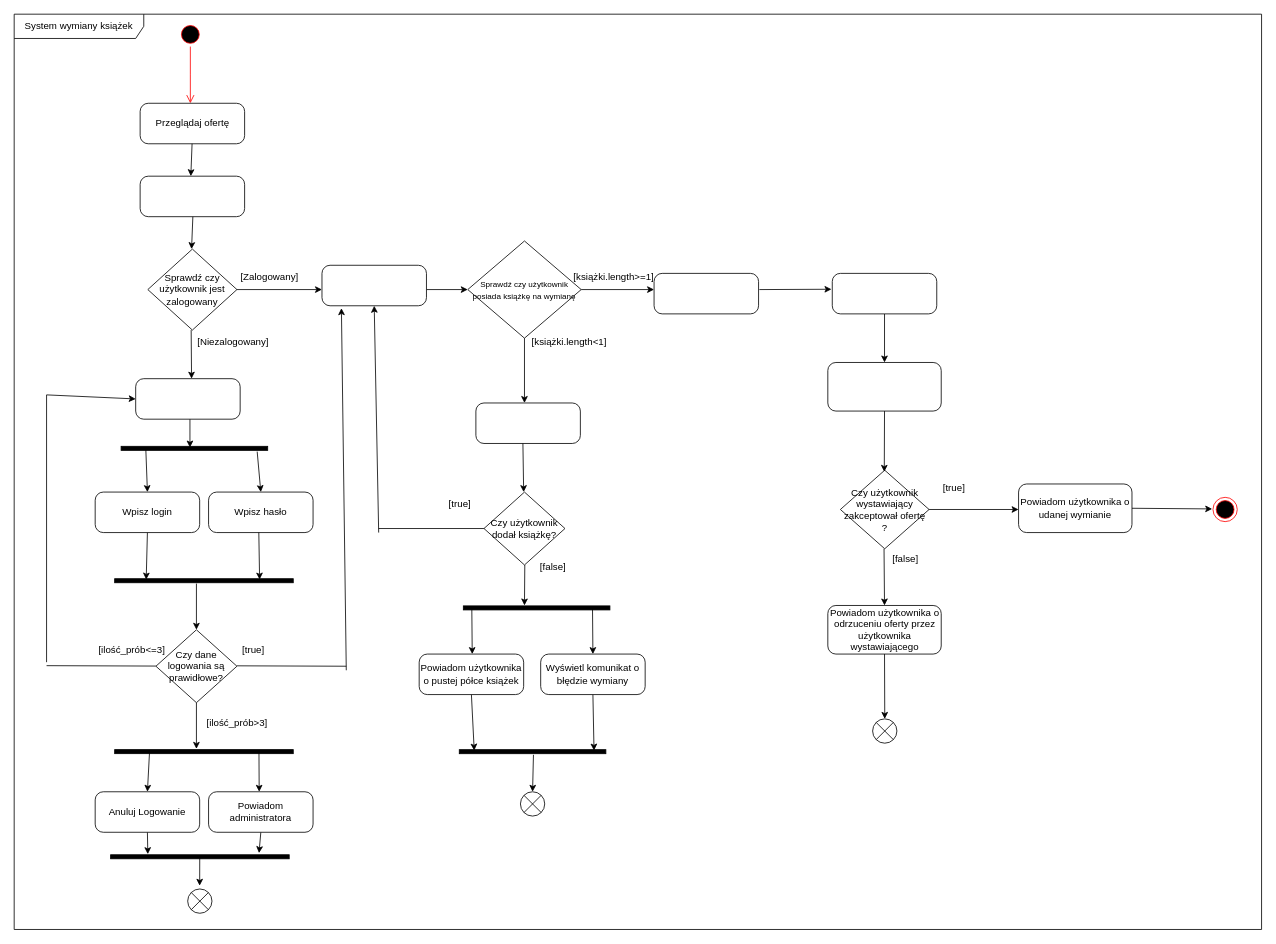
Image size: 1276x944. Some labels were removed from this diagram. Each missing label, with the box of its shape:
Przejdź do okna logowania: (135, 378, 240, 419)
System wysyła powiadomienie o ofercie wymiany do użytkownika wystawiającego: (827, 362, 941, 411)
Wybierz opcję ,,Więcej informacji'': (139, 175, 245, 217)
Wybierz opcję ,,Zaproponuj tę książkę'': (831, 273, 937, 314)
Wybierz opcję ,,Zaproponuj wymianę": (321, 264, 426, 306)
Wybierz swoją książkę do wymiany: (653, 273, 759, 314)
Zaproponuj użytkownikowi dodanie ksiązki: (475, 402, 580, 443)
